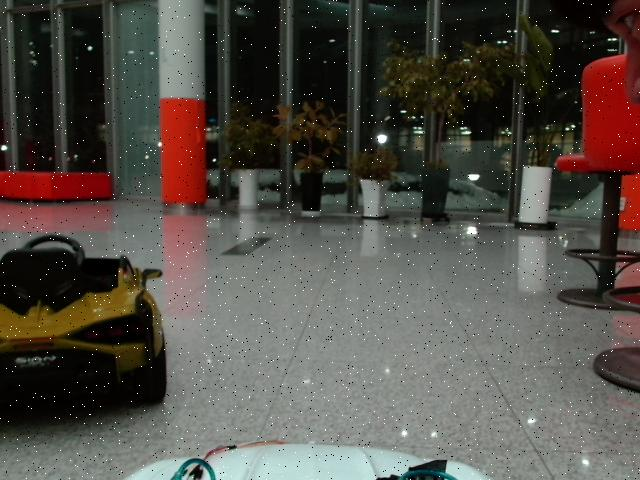car: (1, 236, 166, 423)
